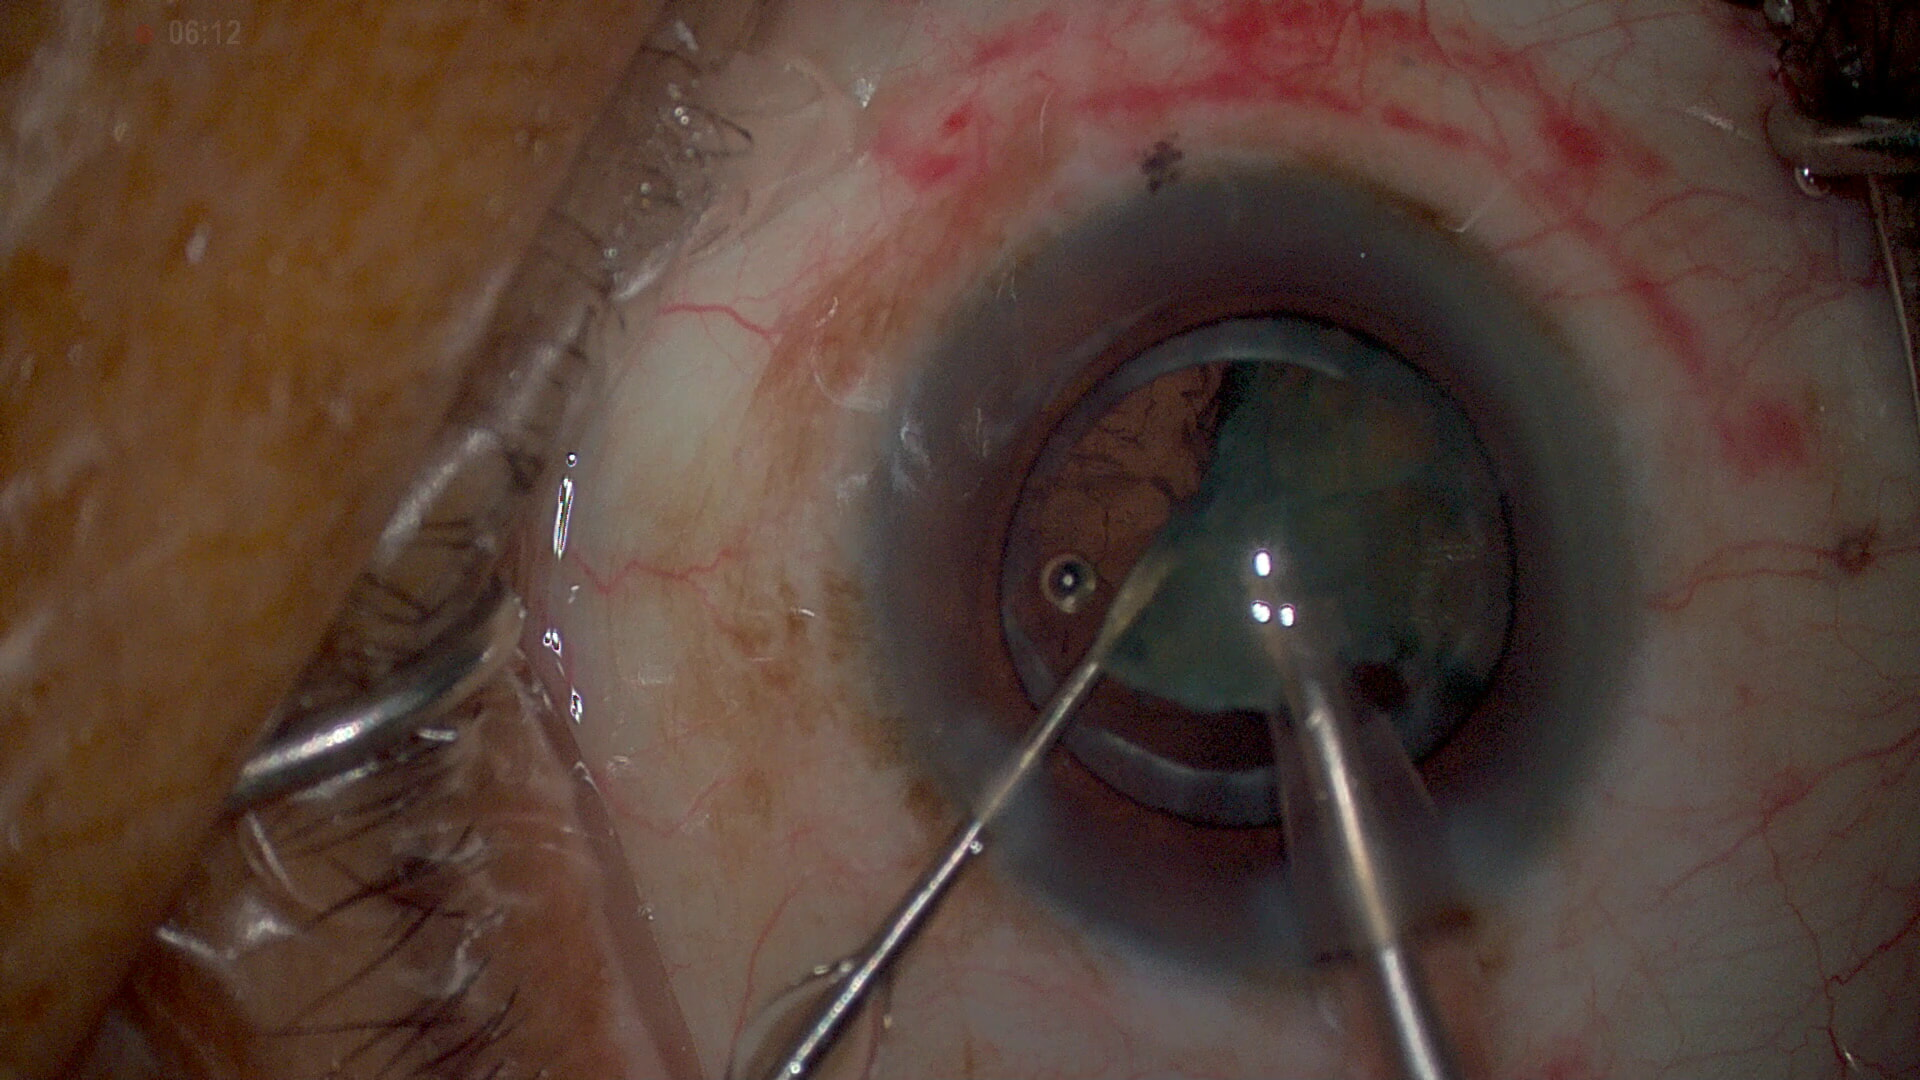iris: (866, 177, 1633, 955)
pupil: (999, 314, 1513, 826)
